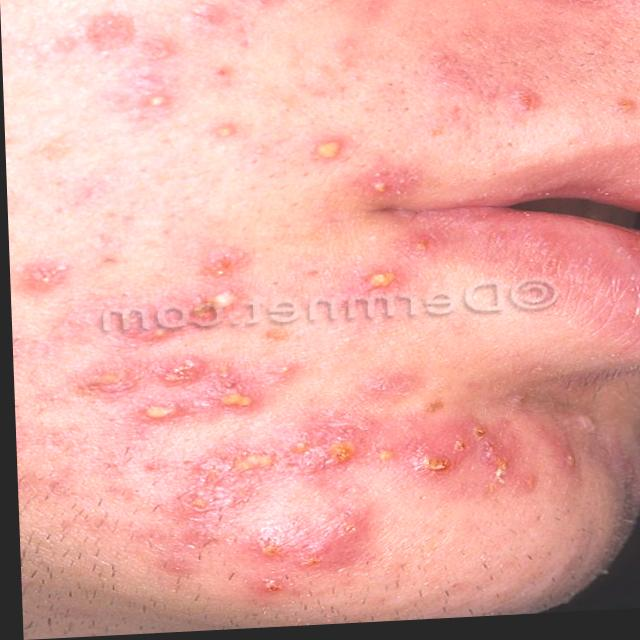blackheads: (141, 379, 264, 425), (9, 256, 78, 301), (305, 126, 363, 178), (400, 451, 465, 485), (133, 88, 176, 124), (187, 0, 225, 32), (245, 575, 289, 598), (511, 92, 543, 122), (201, 124, 242, 146), (613, 98, 640, 125), (361, 274, 391, 294)
